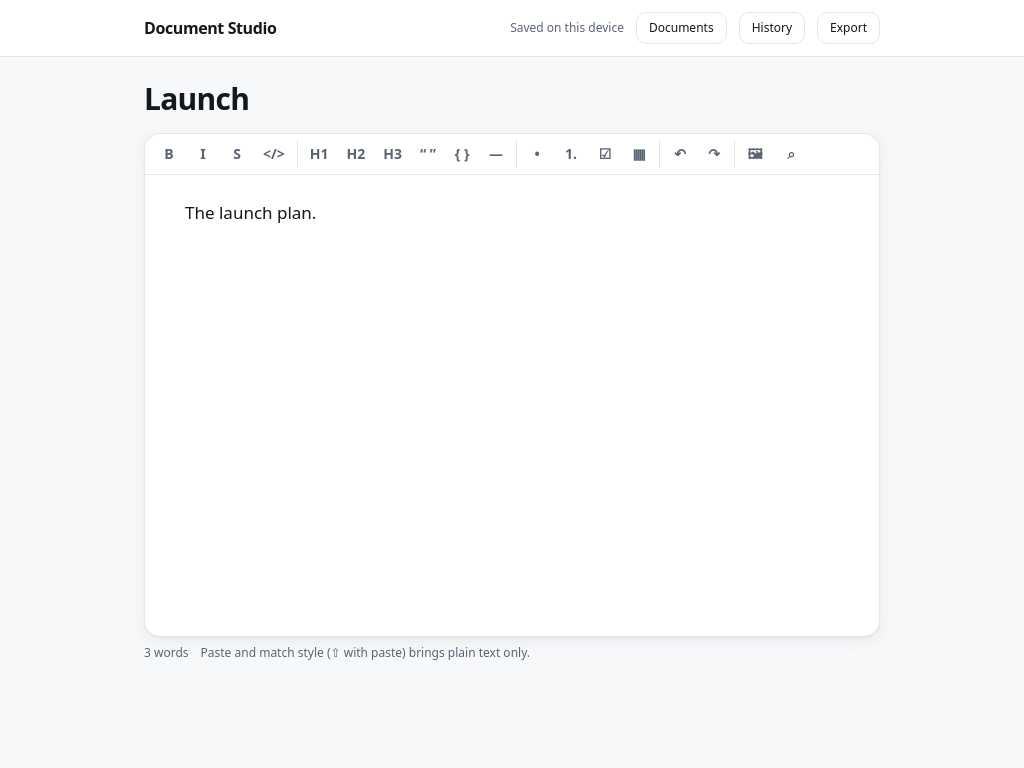
Test case: managing documents — integration › renaming the open document changes the title above it too
Expected: the field named "Document" is shown, top-left (185, 201), bottom-right (316, 224)
Click the button "Documents" at (681, 28), box top-left (636, 12), bottom-right (727, 44)
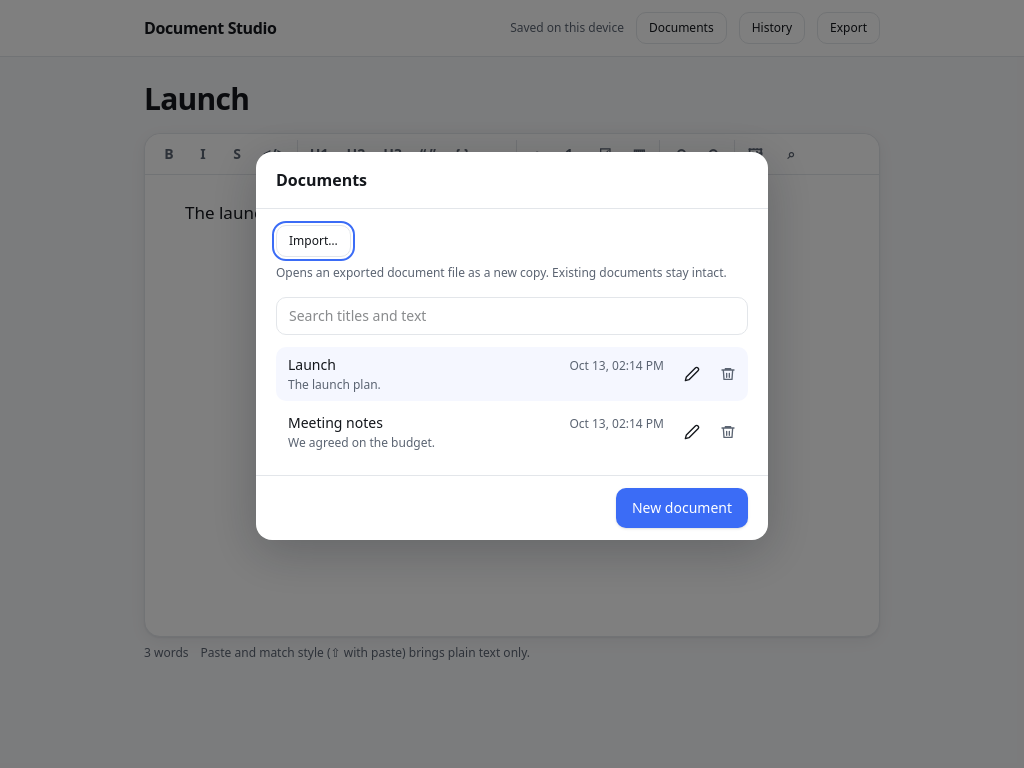
Result: the list named "Documents" is shown at top-left (276, 347), bottom-right (748, 459)
Click the button named "Rename “Launch”" at (692, 374), box top-left (676, 358), bottom-right (708, 390)
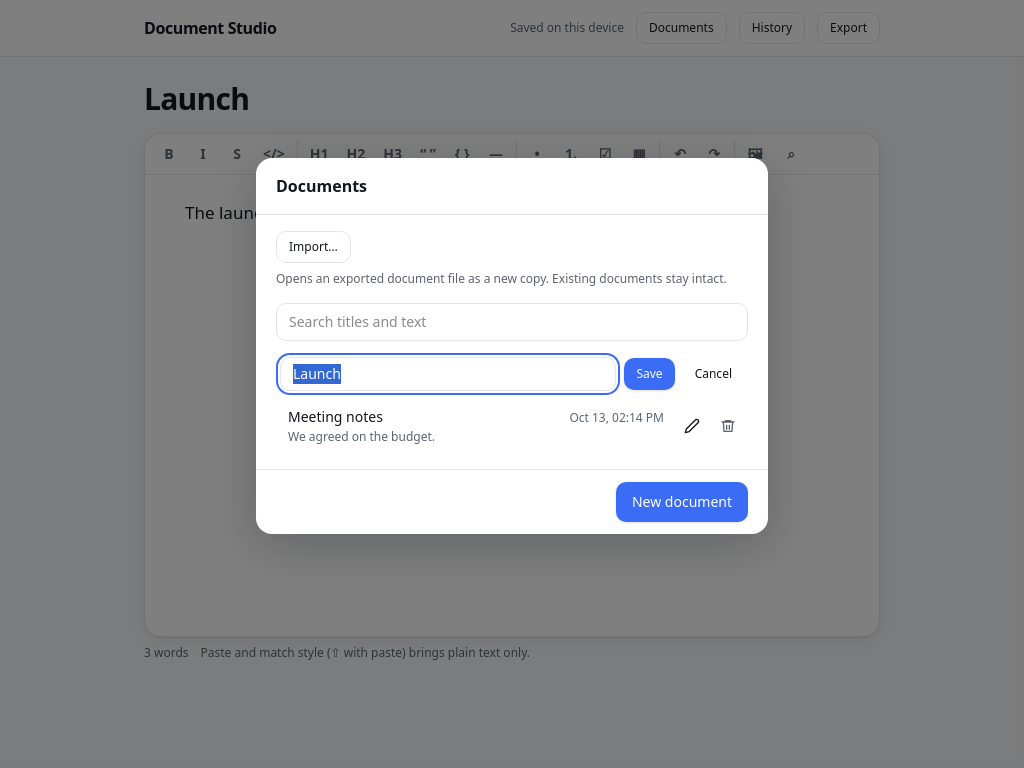
Replace the text in the field named "New title" with "Launch v2" at (448, 374), box top-left (280, 357), bottom-right (616, 391)
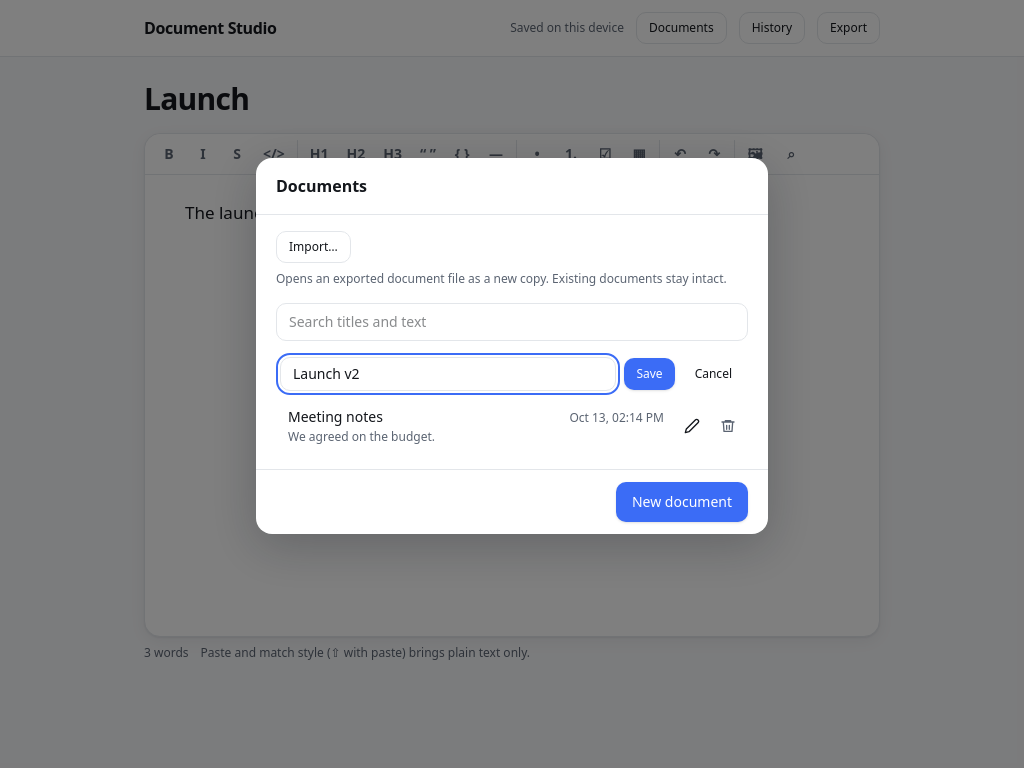
Click the button "Save" at (650, 374), box top-left (624, 358), bottom-right (675, 390)
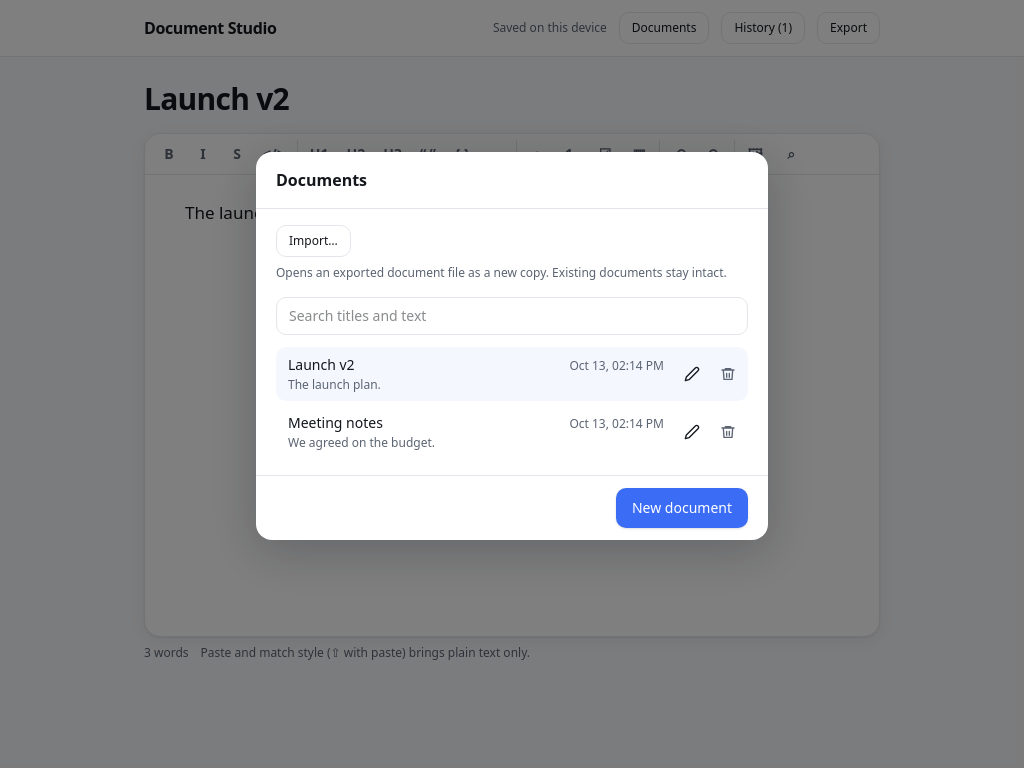
Result: the field named "title" holds "Launch v2" at top-left (144, 81), bottom-right (880, 117)
